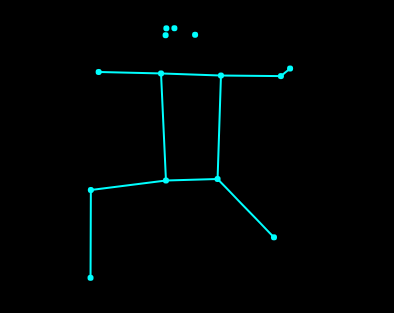warrior_2: (75, 22, 296, 285)
